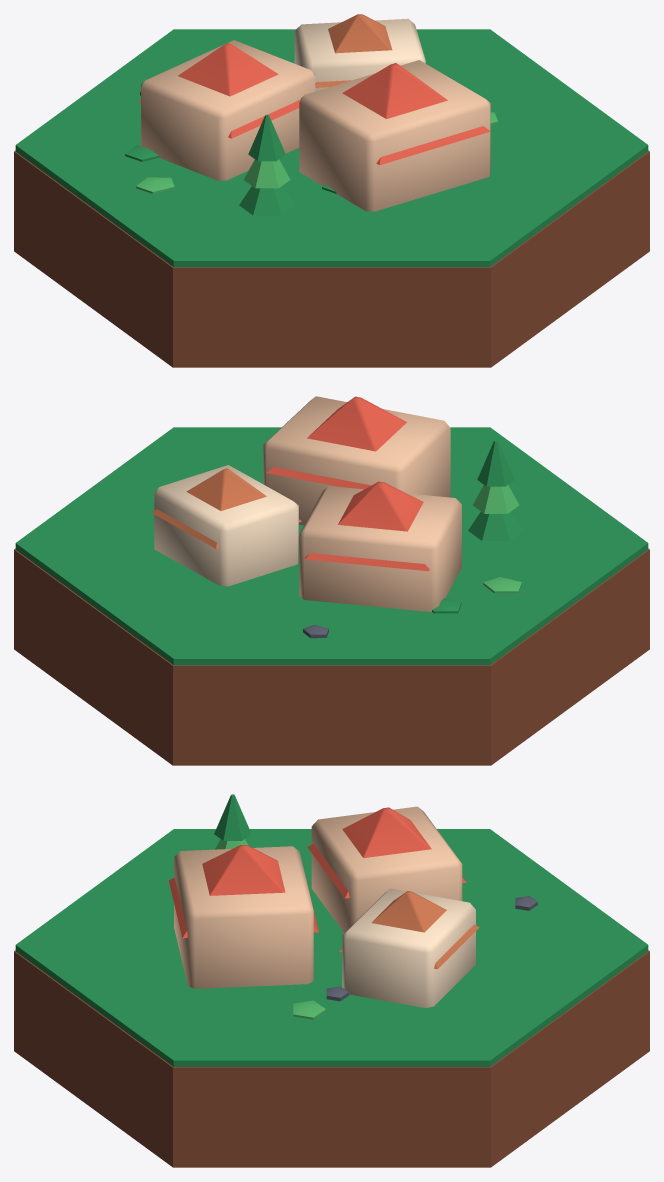
Rendered from building-village.glb.
The picture shows the model from 3 angles, top to bottom: view 1: azimuth 30°, elevation 25°; view 2: azimuth 150°, elevation 25°; view 3: azimuth 270°, elevation 25°; orthographic projection.
Visible parts, largest first — view 1: building_village; view 2: building_village; view 3: building_village.
Part boxes in pixels (left/top/right/bottom): building_village: left=14, top=14, right=649, bottom=367; building_village: left=14, top=396, right=649, bottom=765; building_village: left=14, top=794, right=649, bottom=1167.
Size of the model in its own units: 1 by 0.429 by 1.15.
Materials: 1 (1 with a texture image).
